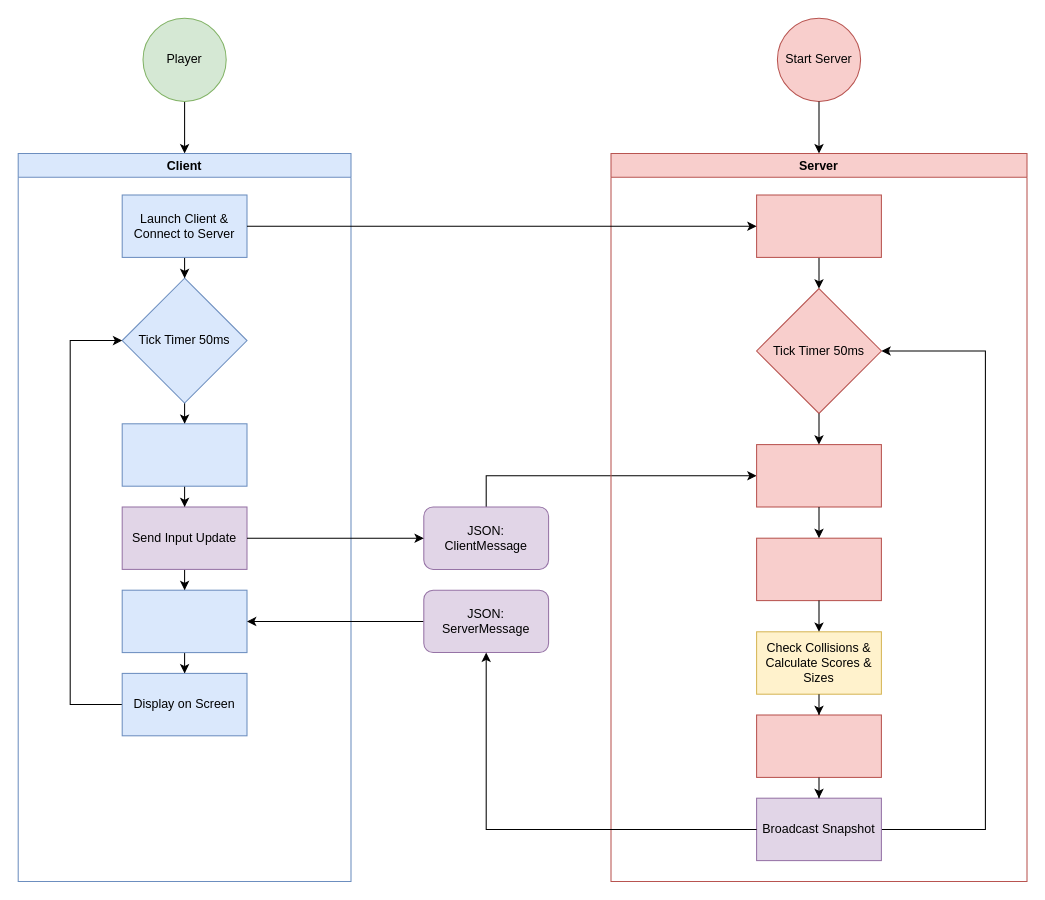
This 1045x900 diagram has some shape labels left out. Each missing label, with the centre of its shape:
"Init GameState & HTTP Service" belongs at (x=818, y=225).
"Input Manager" belongs at (x=184, y=454).
"Render Manager" belongs at (x=184, y=621).
"Update Global GameState" belongs at (x=818, y=745).
"Update Positions & Generate Dots" belongs at (x=818, y=569).
"Websocket Manager" belongs at (x=818, y=475).
